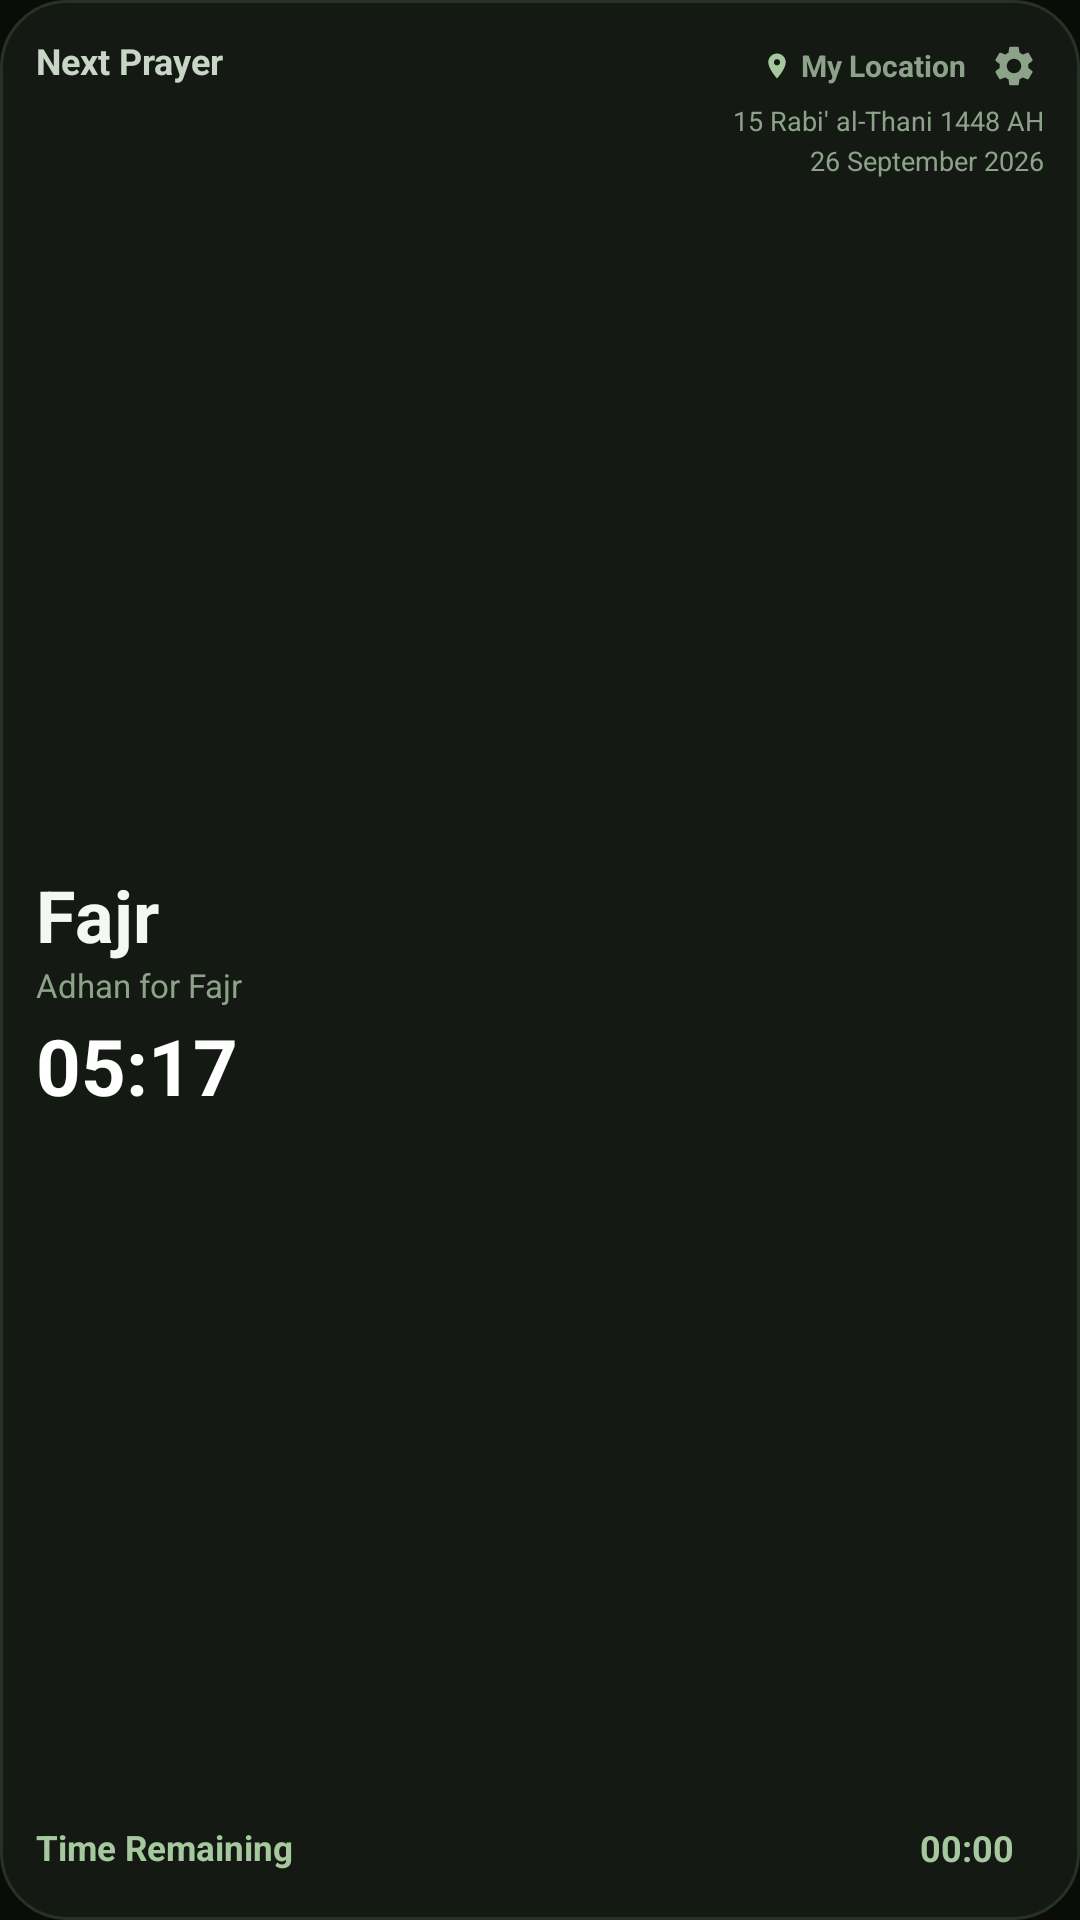

Icons on this 1080px×1920px Android screen, each with the point to tap as (x=x, y=y):
location pin: (x=777, y=65)
widget settings: (x=1014, y=66)
